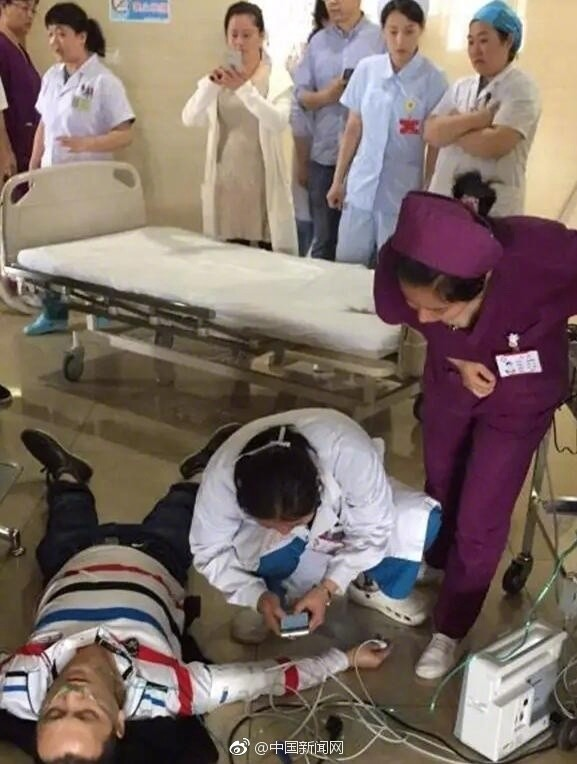10+: (1, 1, 566, 740)
down: (8, 414, 405, 764)
